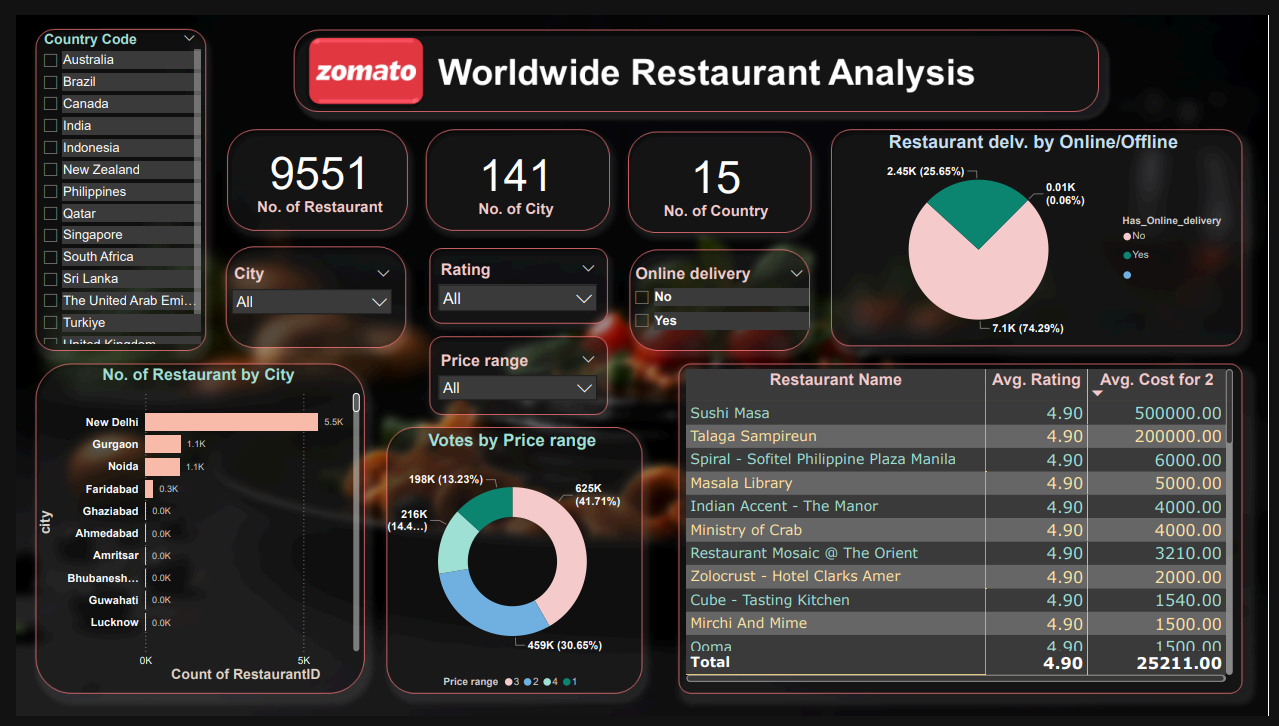

The dashboard page shown, as its layout file describes it:
{"tool":"powerbi","page":{"name":"Page 1","canvas":[1659,928],"ordinal":0},"visuals":[{"type":"card","fields":{"Values":["Count(ZomatoData.RestaurantID)"]},"box":[298,154,210,122],"z":0},{"type":"card","fields":{"Values":["Count(ZomatoData.CountryCode)"]},"box":[830,164,196,114],"z":1000},{"type":"card","fields":{"Values":["Count(ZomatoData.City)"]},"box":[558,162,210,114],"z":2000},{"type":"slicer","title":"Country code","fields":{"Values":["ZomatoData.CountryName"]},"box":[24,16,226,424],"z":3000},{"type":"slicer","fields":{"Values":["ZomatoData.Price_range"]},"box":[550,440,230,88],"z":4000},{"type":"slicer","fields":{"Values":["ZomatoData.Has_Online_delivery"]},"box":[808,326,248,114],"z":5000},{"type":"clusteredBarChart","title":"    No. of Restaurant by City","fields":{"Category":["ZomatoData.City"],"Y":["CountNonNull(ZomatoData.RestaurantID)"]},"box":[24,464,436,424],"z":6000},{"type":"pivotTable","fields":{"Values":["Avg(ZomatoData.Rating)","Avg(ZomatoData.Average_Cost_for_two)"],"Rows":["ZomatoData.RestaurantName"]},"box":[884,464,734,424],"z":7000},{"type":"slicer","fields":{"Values":["ZomatoData.City"]},"box":[276,326,232,88],"z":8000},{"type":"pieChart","title":"  Restaurant delv. by Online/Offline","fields":{"Category":["ZomatoData.Has_Online_delivery"],"Y":["CountNonNull(ZomatoData.RestaurantID)"]},"box":[1080,154,538,286],"z":9000},{"type":"donutChart","title":"Votes by Price range","fields":{"Y":["Sum(ZomatoData.Votes)"],"Category":["ZomatoData.Price_range"]},"box":[486,550,344,352],"z":10000},{"type":"slicer","fields":{"Values":["ZomatoData.Rating"]},"box":[550,320,230,94],"z":11000}]}

Visuals, with their boxes in screenshot pixels (x1, y1, x2, y2), scaled from the page's 1659x928 canvas onto the 1279x726 screenshot:
card - Count(ZomatoData.RestaurantID): crop(230, 120, 392, 216)
card - Count(ZomatoData.CountryCode): crop(640, 128, 791, 217)
card - Count(ZomatoData.City): crop(430, 127, 592, 216)
"Country code" slicer: crop(19, 13, 193, 344)
slicer - ZomatoData.Price_range: crop(424, 344, 601, 413)
slicer - ZomatoData.Has_Online_delivery: crop(623, 255, 814, 344)
"    No. of Restaurant by City" clusteredBarChart: crop(19, 363, 355, 695)
pivotTable - Avg(ZomatoData.Rating) x Avg(ZomatoData.Average_Cost_for_two): crop(682, 363, 1247, 695)
slicer - ZomatoData.City: crop(213, 255, 392, 324)
"  Restaurant delv. by Online/Offline" pieChart: crop(833, 120, 1247, 344)
"Votes by Price range" donutChart: crop(375, 430, 640, 706)
slicer - ZomatoData.Rating: crop(424, 250, 601, 324)
